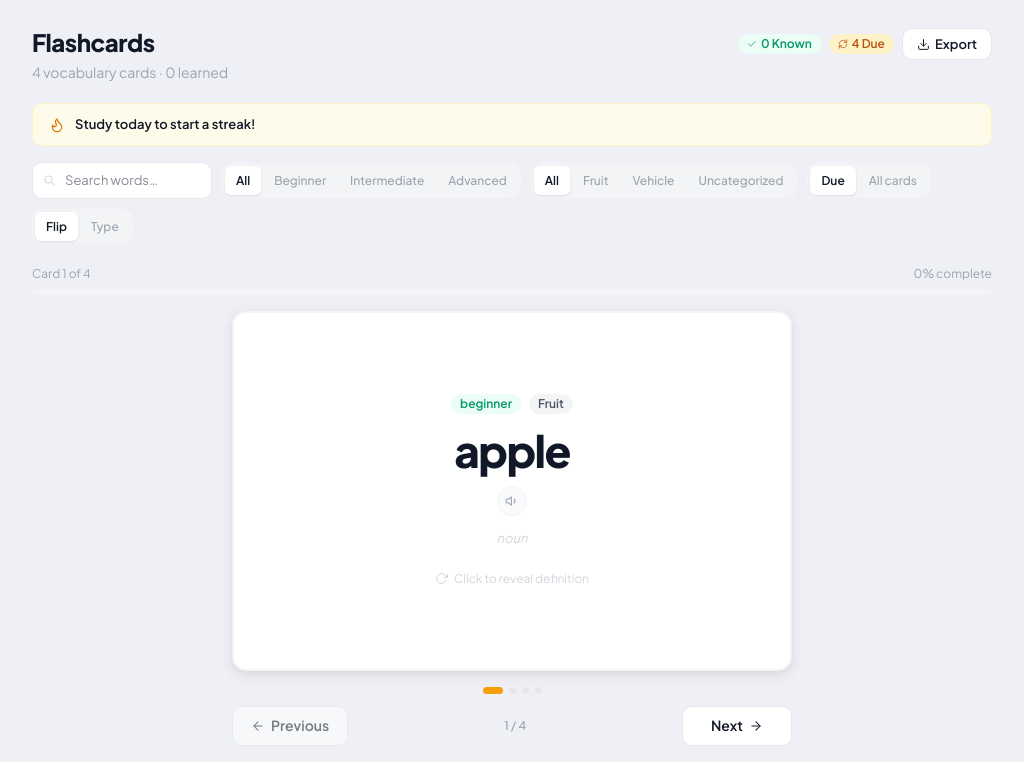
Test case: FlashcardsScreen tag filter › filters the study session to cards matching the selected tag
The image size is (1024, 762).
Note: Switch to "All cards" so due-date filtering doesn't hide anything unexpected.
Click the button "All cards" at (893, 180), box x1=858 y1=166 x2=928 y2=195
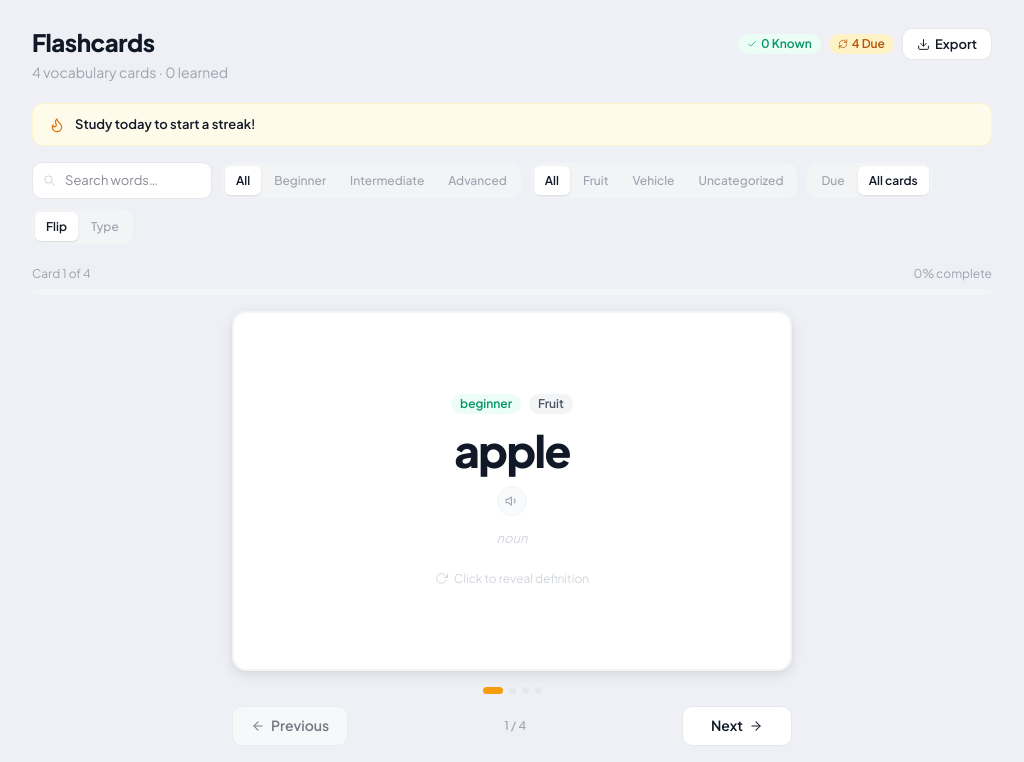
Click the button "Vehicle" at (653, 180), box x1=621 y1=166 x2=685 y2=195
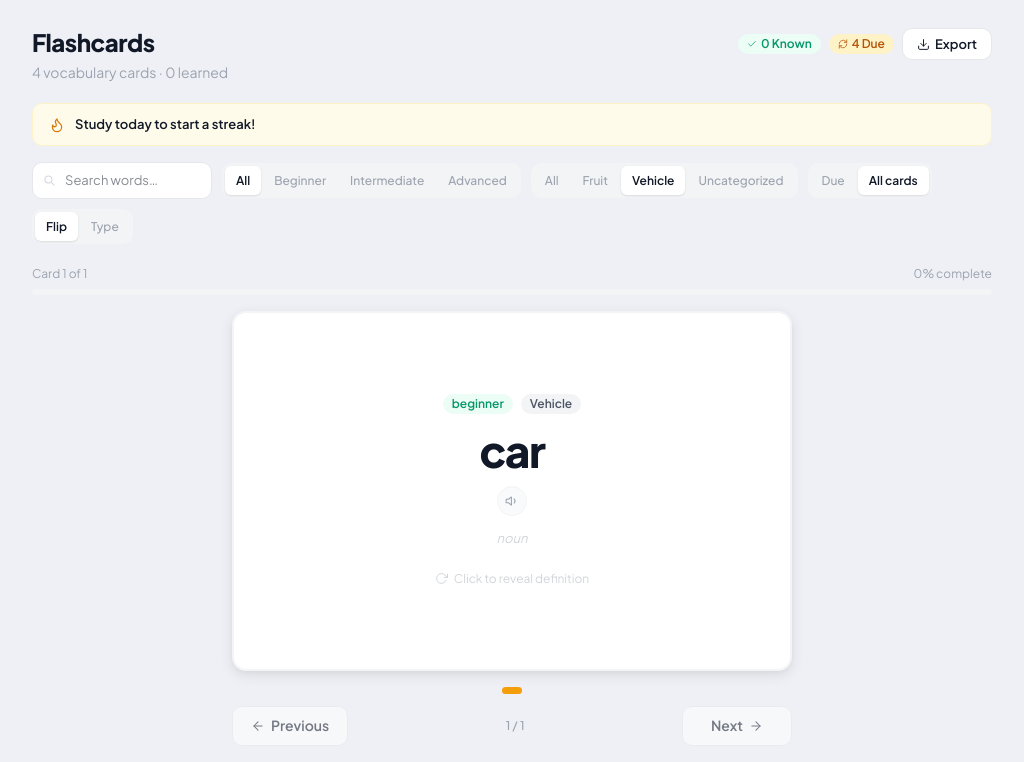
Result: the text "car" is shown at x1=480 y1=426 x2=544 y2=474
Result: the text "apple" is gone
